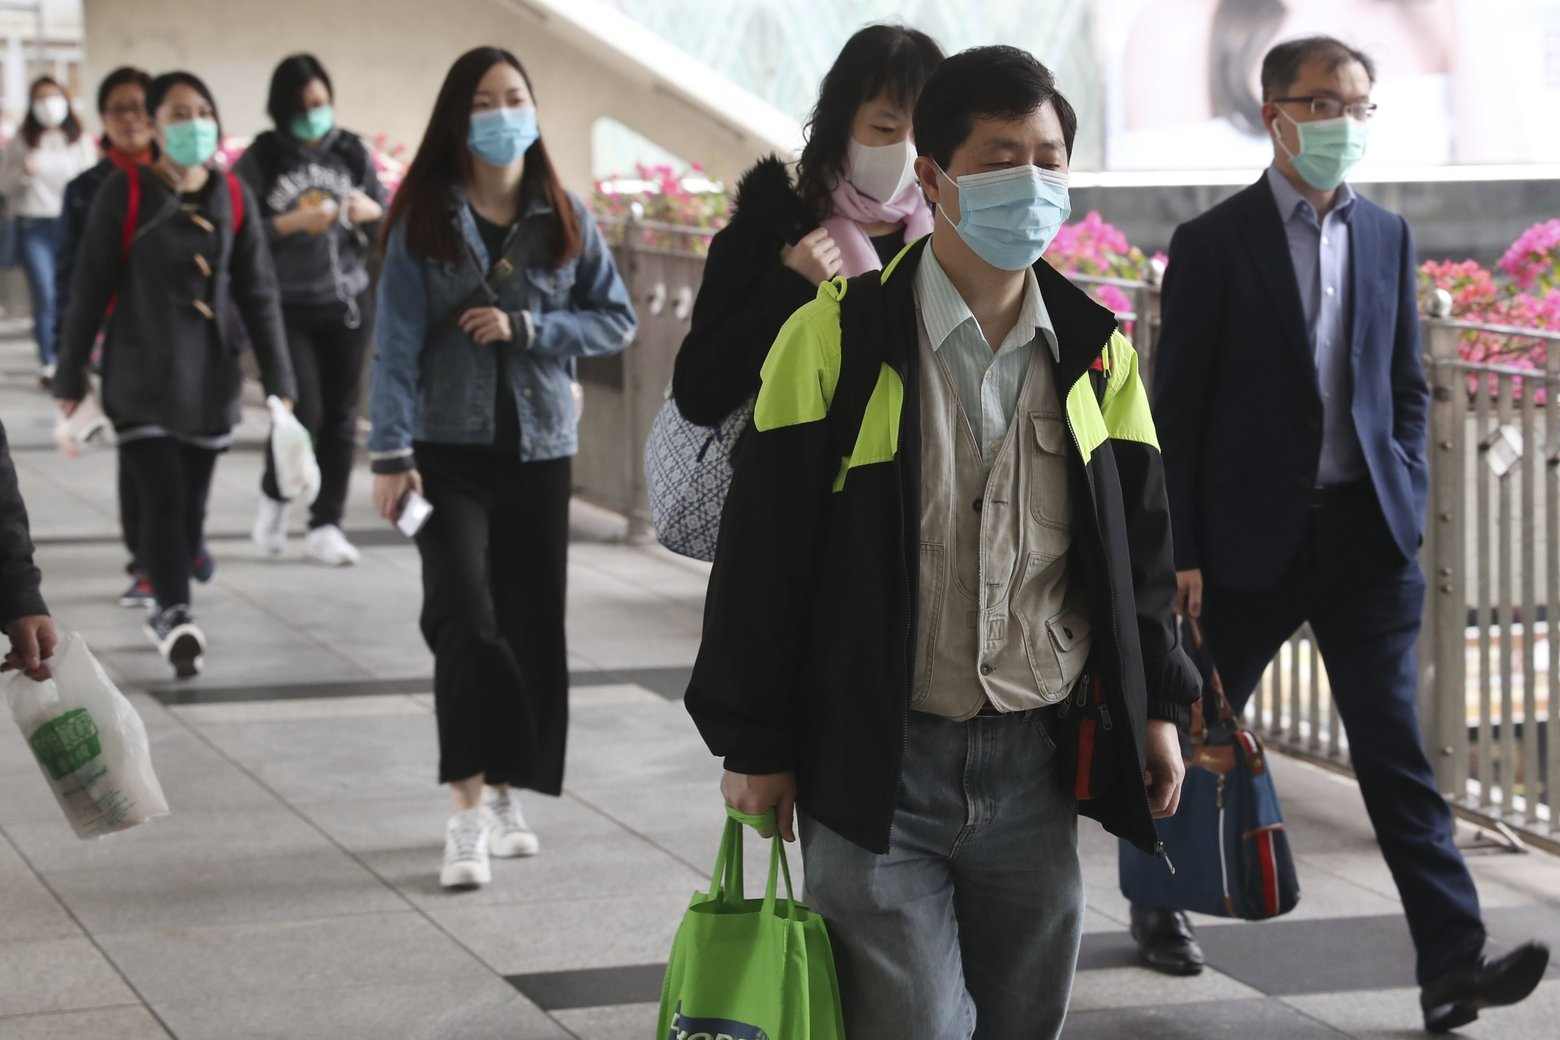homemade: (842, 138, 930, 206)
surgical: (948, 165, 1076, 272), (1283, 116, 1384, 191), (469, 111, 553, 174), (159, 119, 228, 168), (275, 108, 350, 147)
